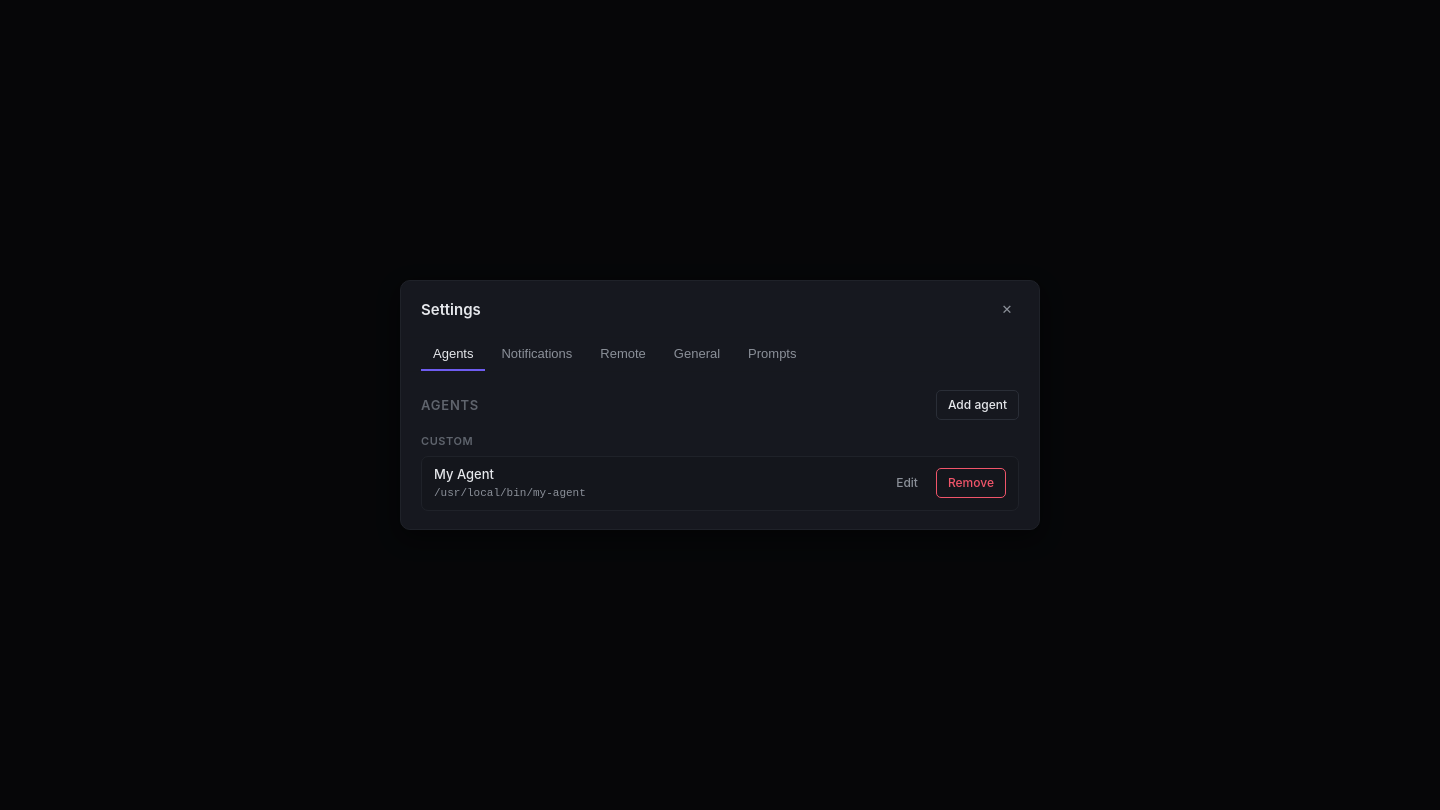
SettingsModal › Edit prefills the form with the agent's values
Expected: the text "My Agent" is shown, [434, 466, 494, 482]
What coordinates should you click on to do the following:
click the button "Edit"
I would click on:
 (907, 483)
Its box is [884, 468, 930, 498].
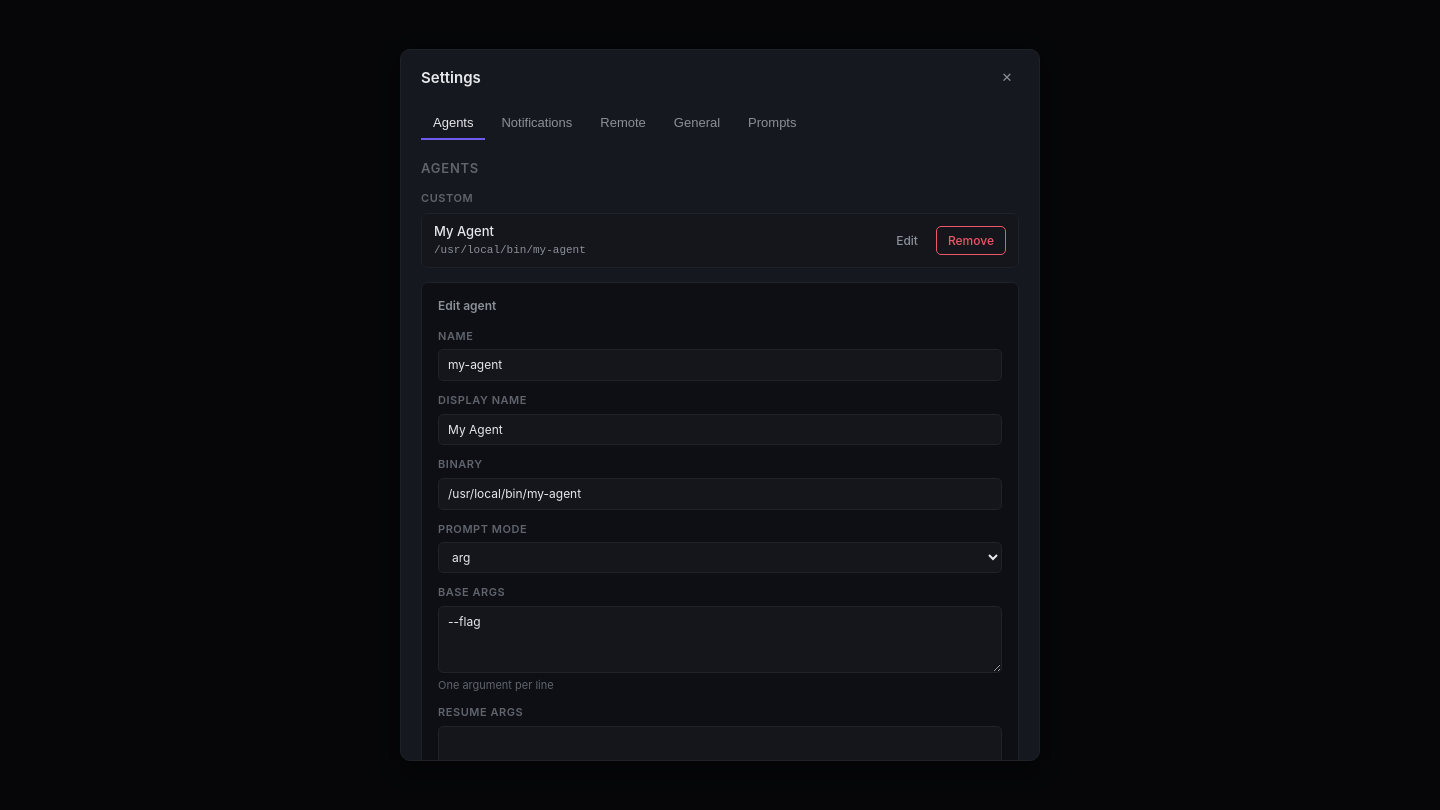
Now the field labelled "Name" holds "my-agent", box [438, 350, 1002, 381]
Now the field labelled "Binary" holds "/usr/local/bin/my-agent", box [438, 478, 1002, 510]
Now the text box named "Base args" holds "--flag", box [438, 606, 1002, 673]
